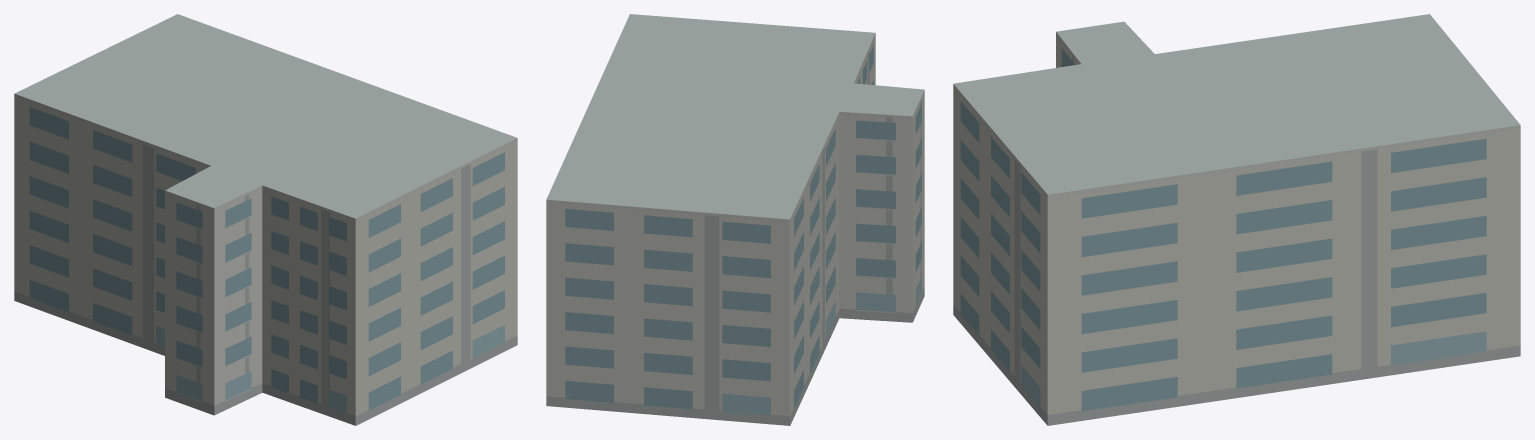
The model's file is survey-upis-32762243.glb.
The picture shows the model from 3 angles, left to right: view 1: azimuth 30°, elevation 25°; view 2: azimuth 150°, elevation 25°; view 3: azimuth 270°, elevation 25°; orthographic projection. The views are drawn at different scales.
Parts seen in each view (by area): view 1: survey-upis-32762243.tmp; view 2: survey-upis-32762243.tmp; view 3: survey-upis-32762243.tmp.
Boxes of the visible parts, x1,y1,x2,y2 form: survey-upis-32762243.tmp: (14,14,517,425); survey-upis-32762243.tmp: (546,14,924,425); survey-upis-32762243.tmp: (953,14,1520,425).
Bounding box in the file's own units: 30.7 × 18.3 × 40.72.
